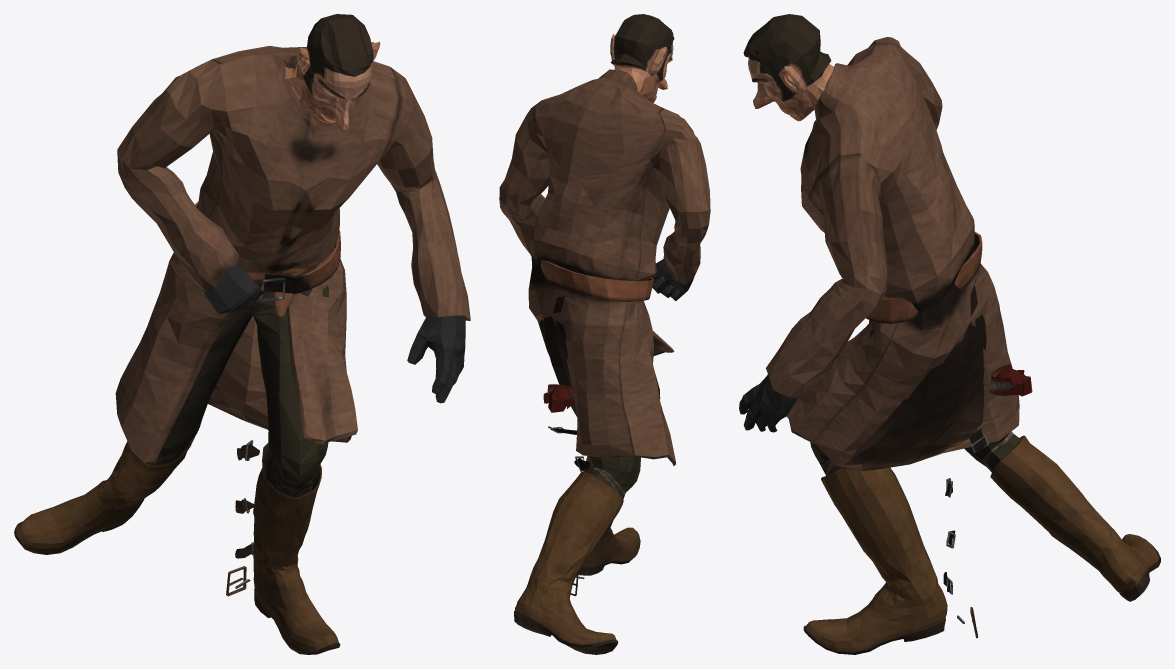
The model's file is sniper01_000017.obj.
The picture shows the model from 3 angles, left to right: view 1: azimuth 30°, elevation 25°; view 2: azimuth 150°, elevation 25°; view 3: azimuth 270°, elevation 25°; orthographic projection. The views are drawn at different scales.
Parts seen in each view (by area): view 1: Tops, Shoes, BodyParts, Bottoms; view 2: Tops, Shoes, BodyParts, Bottoms; view 3: Tops, Shoes, BodyParts, Bottoms.
Boxes of the visible parts, x1=… form: Tops: x1=115, y1=46, x2=470, y2=588; Shoes: x1=14, y1=435, x2=340, y2=654; BodyParts: x1=201, y1=14, x2=465, y2=403; Bottoms: x1=147, y1=263, x2=328, y2=596; Tops: x1=499, y1=69, x2=710, y2=579; Shoes: x1=514, y1=456, x2=640, y2=654; BodyParts: x1=543, y1=14, x2=694, y2=412; Bottoms: x1=570, y1=373, x2=660, y2=595; Tops: x1=766, y1=37, x2=1019, y2=623; Shoes: x1=803, y1=435, x2=1160, y2=654; BodyParts: x1=739, y1=14, x2=1032, y2=432; Bottoms: x1=810, y1=252, x2=1020, y2=638.
Size of the model in its own units: 1.07 by 2.32 by 1.41.
